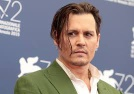male: (52, 2, 109, 73)
